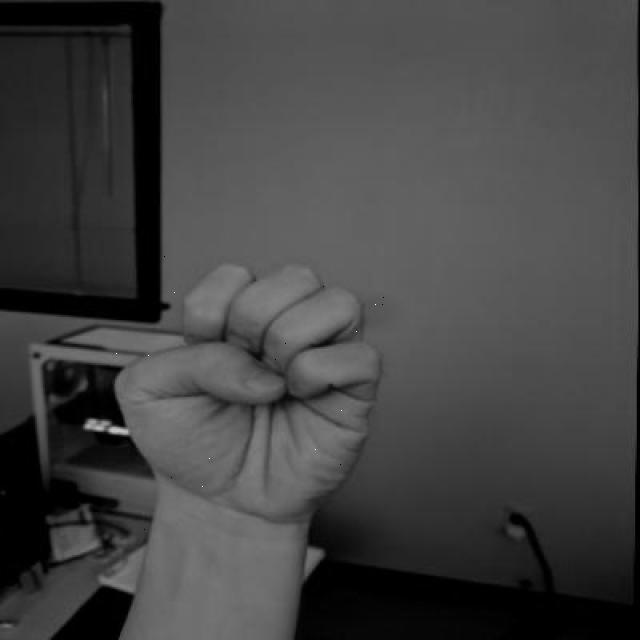E: (104, 253, 394, 534)
